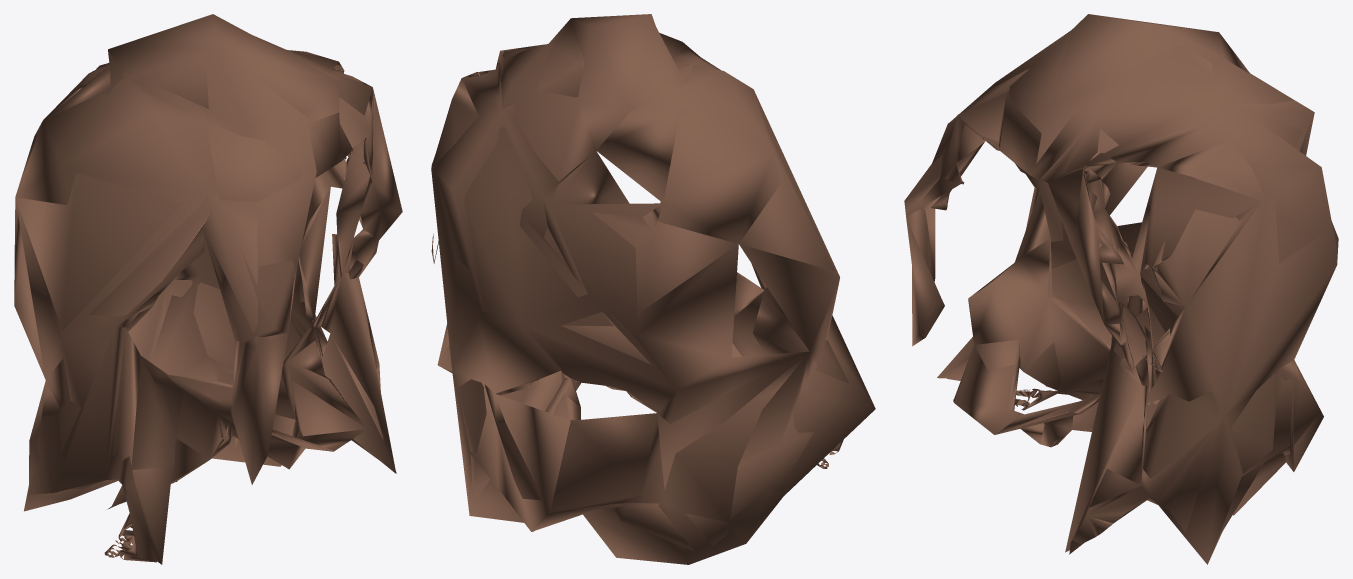
Rendered from Hair_long_LOD1.glb.
3 views of the same model, side by side, from view 1: azimuth 30°, elevation 25°; view 2: azimuth 150°, elevation 25°; view 3: azimuth 270°, elevation 25° (orthographic).
Parts seen in each view (by area): view 1: Hair_long_LOD1; view 2: Hair_long_LOD1; view 3: Hair_long_LOD1.
Boxes of the visible parts, box(x1,y1,x2,y2) form: Hair_long_LOD1: box(14, 14, 402, 564); Hair_long_LOD1: box(431, 14, 875, 564); Hair_long_LOD1: box(904, 14, 1338, 564).
Bounding box in the file's own units: 0.378 × 0.4612 × 0.3674.
